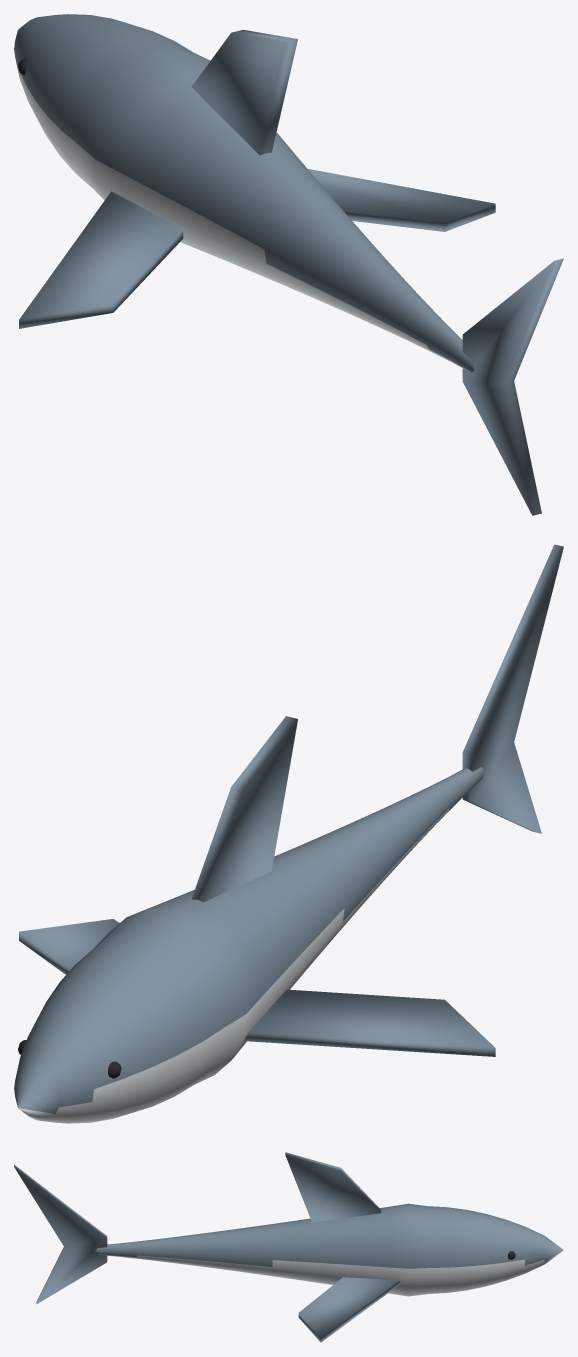
File: shark.glb
3 renders of one model, top to bottom at view 1: azimuth 30°, elevation 25°; view 2: azimuth 150°, elevation 25°; view 3: azimuth 270°, elevation 25°, orthographic. The views are drawn at different scales.
Parts seen in each view (by area): view 1: Shark_Body, Shark_PectoralFins, Shark_Tail, Shark_DorsalFin; view 2: Shark_Body, Shark_PectoralFins, Shark_Tail, Shark_DorsalFin; view 3: Shark_Body, Shark_Tail, Shark_DorsalFin, Shark_PectoralFins.
Boxes of the visible parts, x1,y1,x2,y2 form: Shark_Body: (14,14,474,372); Shark_PectoralFins: (19,168,495,328); Shark_Tail: (462,258,563,515); Shark_DorsalFin: (191,29,297,155); Shark_Body: (14,767,483,1123); Shark_PectoralFins: (19,919,495,1056); Shark_Tail: (462,544,563,833); Shark_DorsalFin: (191,716,297,902); Shark_Body: (95,1203,563,1296); Shark_Tail: (14,1165,107,1304); Shark_DorsalFin: (285,1152,381,1222); Shark_PectoralFins: (298,1277,400,1342).
Size of the model in its own units: 2.76 by 1.63 by 5.43.
